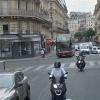Motorcycle: (43, 59, 70, 100)
